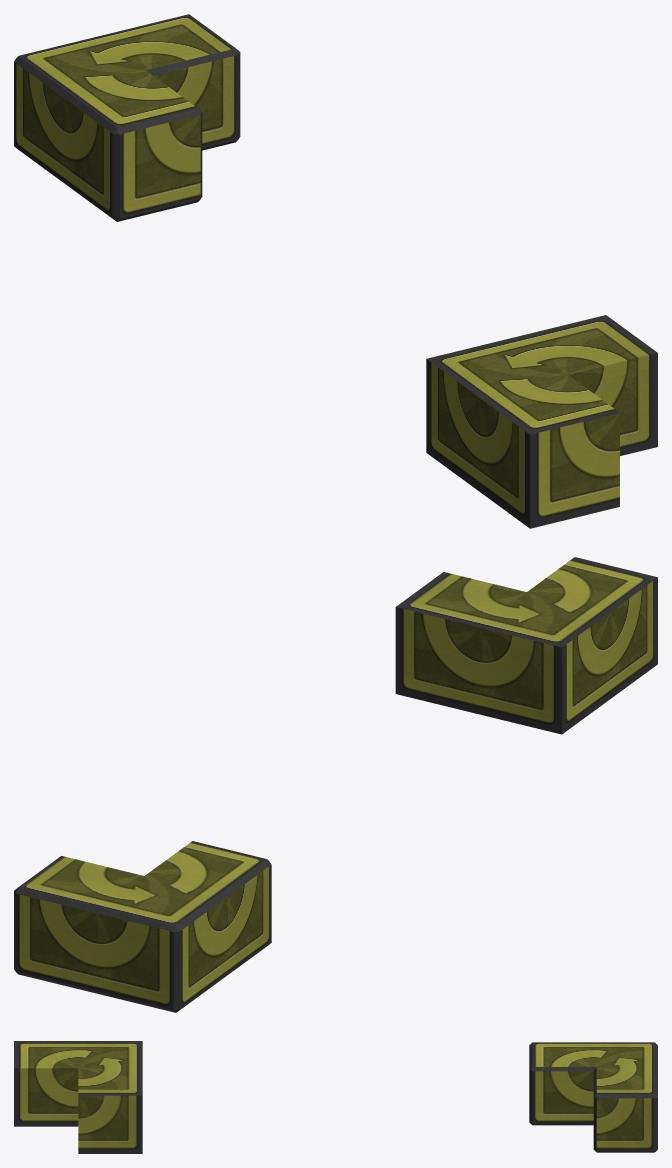
Rendered from insetStep2.insideCorner.fbx.
The picture shows the model from 3 angles, top to bottom: view 1: azimuth 30°, elevation 25°; view 2: azimuth 150°, elevation 25°; view 3: azimuth 270°, elevation 25°; orthographic projection. The views are drawn at different scales.
Parts seen in each view (by area): view 1: MESH insetStep2.insideCorner, MESH insetStep2.insideCorner.c; view 2: MESH insetStep2.insideCorner, MESH insetStep2.insideCorner.c; view 3: MESH insetStep2.insideCorner, MESH insetStep2.insideCorner.c.
Boxes of the visible parts, <box> form: MESH insetStep2.insideCorner: <box>426,315,657,528</box>; MESH insetStep2.insideCorner.c: <box>14,14,240,221</box>; MESH insetStep2.insideCorner: <box>395,557,657,734</box>; MESH insetStep2.insideCorner.c: <box>14,841,271,1012</box>; MESH insetStep2.insideCorner: <box>14,1041,142,1153</box>; MESH insetStep2.insideCorner.c: <box>529,1042,657,1152</box>.
Size of what is drawn, in the model's own units: 100 by 50.01 by 500.
